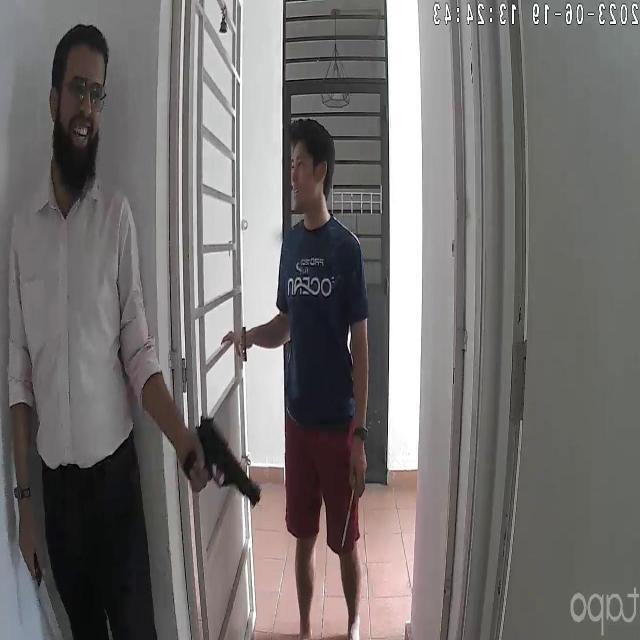Gun: (182, 410, 266, 508)
Knife: (334, 478, 370, 560)
